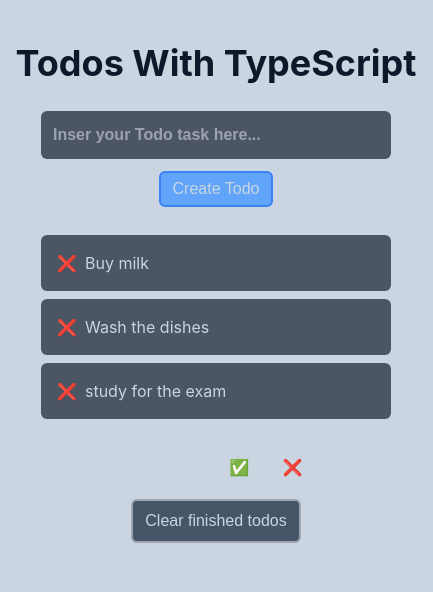
Test: todos › should add a todo
Type "Listen to music" into the field named "todo input".
click(216, 135); type("Listen to music")  # box [41,111,391,159]
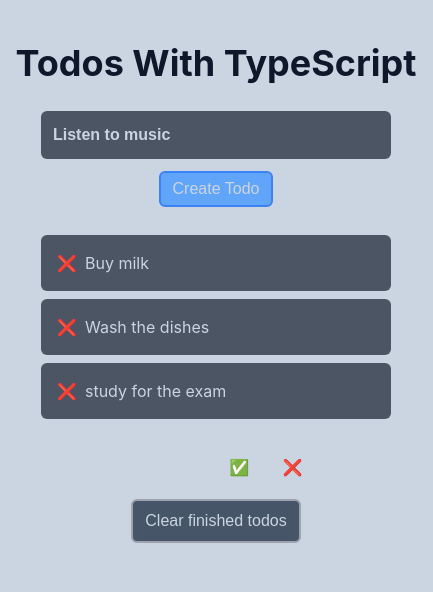
Click the button with aria-label "submit".
click(216, 189)  # box [159,171,274,207]
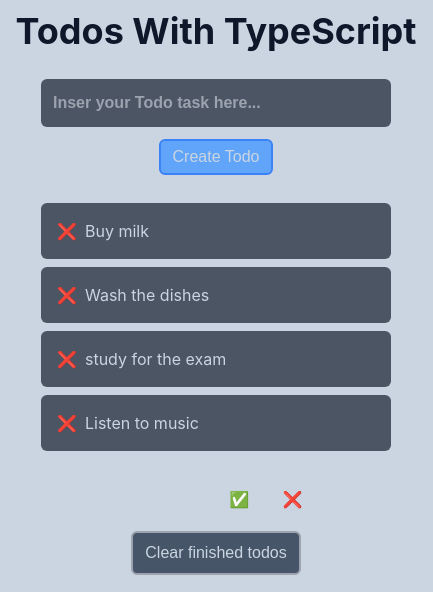
Now the field named "todo input" is empty, box [41,79,391,127]
Now the list item "Listen to music" is shown, box [85,413,199,433]
